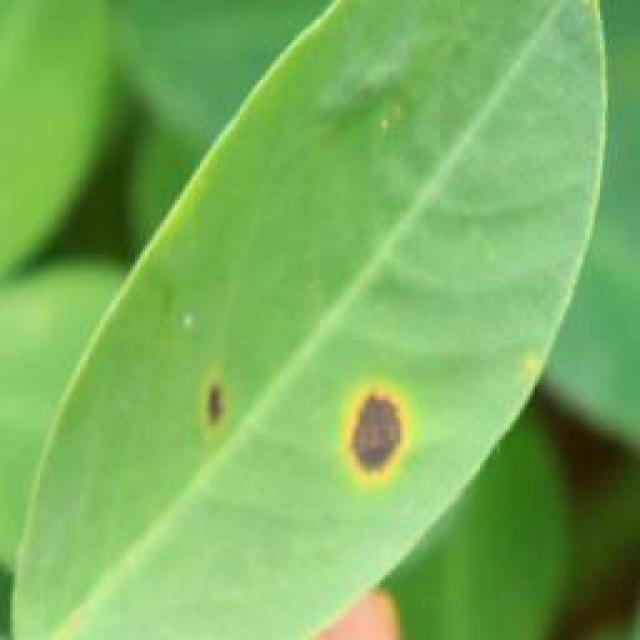Sigatoka: (302, 340, 429, 496), (189, 358, 248, 436)
